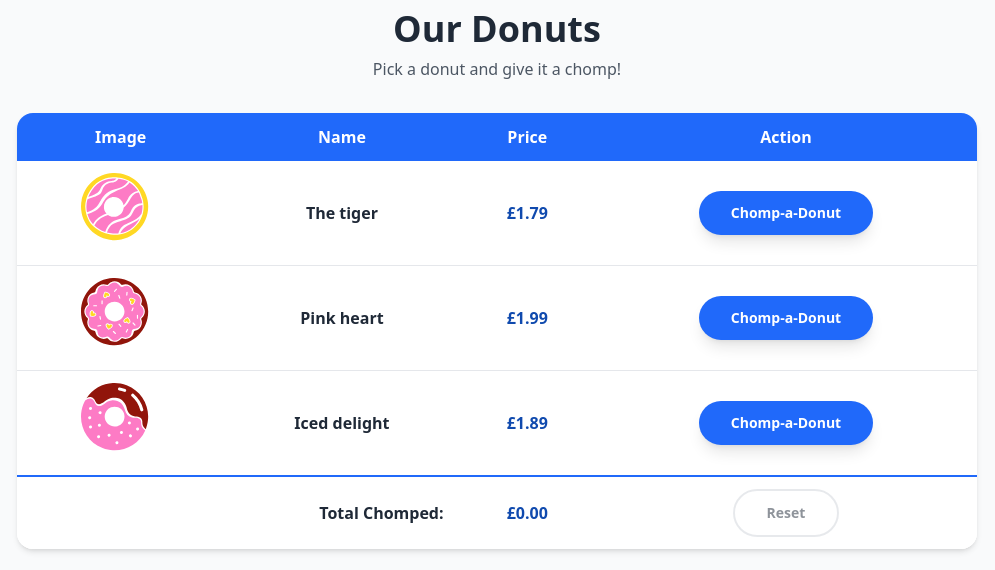
Test: MenuPage › chomps a donut — row goes 50% opacity and button becomes disabled
Expected: the text "Pink heart" is shown, [224,266,460,370]
Click the button "Chomp-a-Donut" in the row of "The tiger" at (786, 213), box [699,191,873,235]
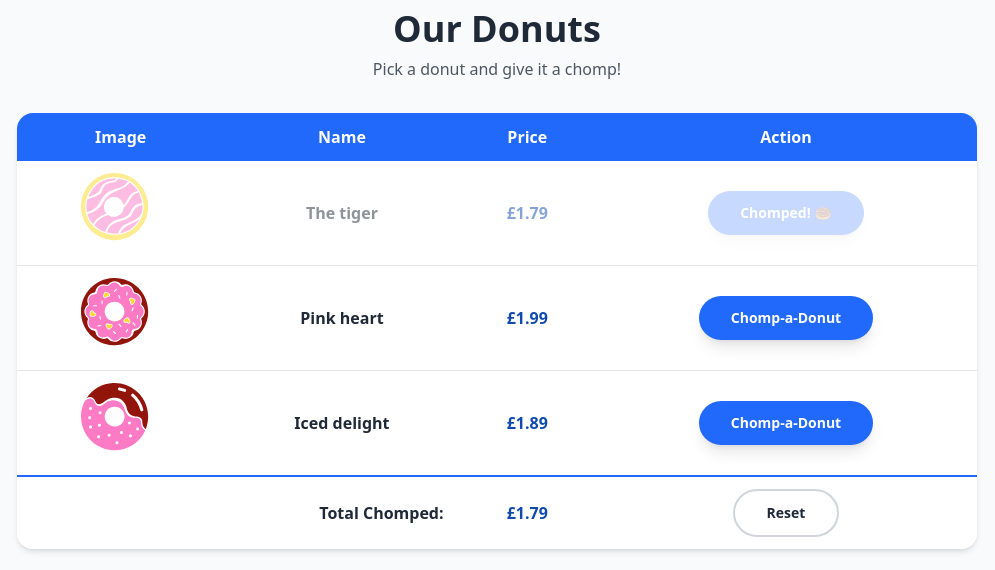
Now the button "Chomped! 🍩" is disabled, box [708,191,864,235]
